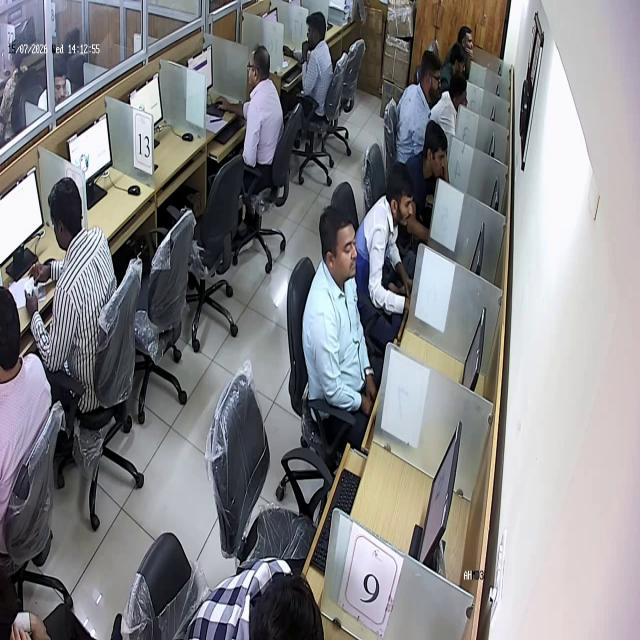paper-chit: (24, 274, 42, 299)
